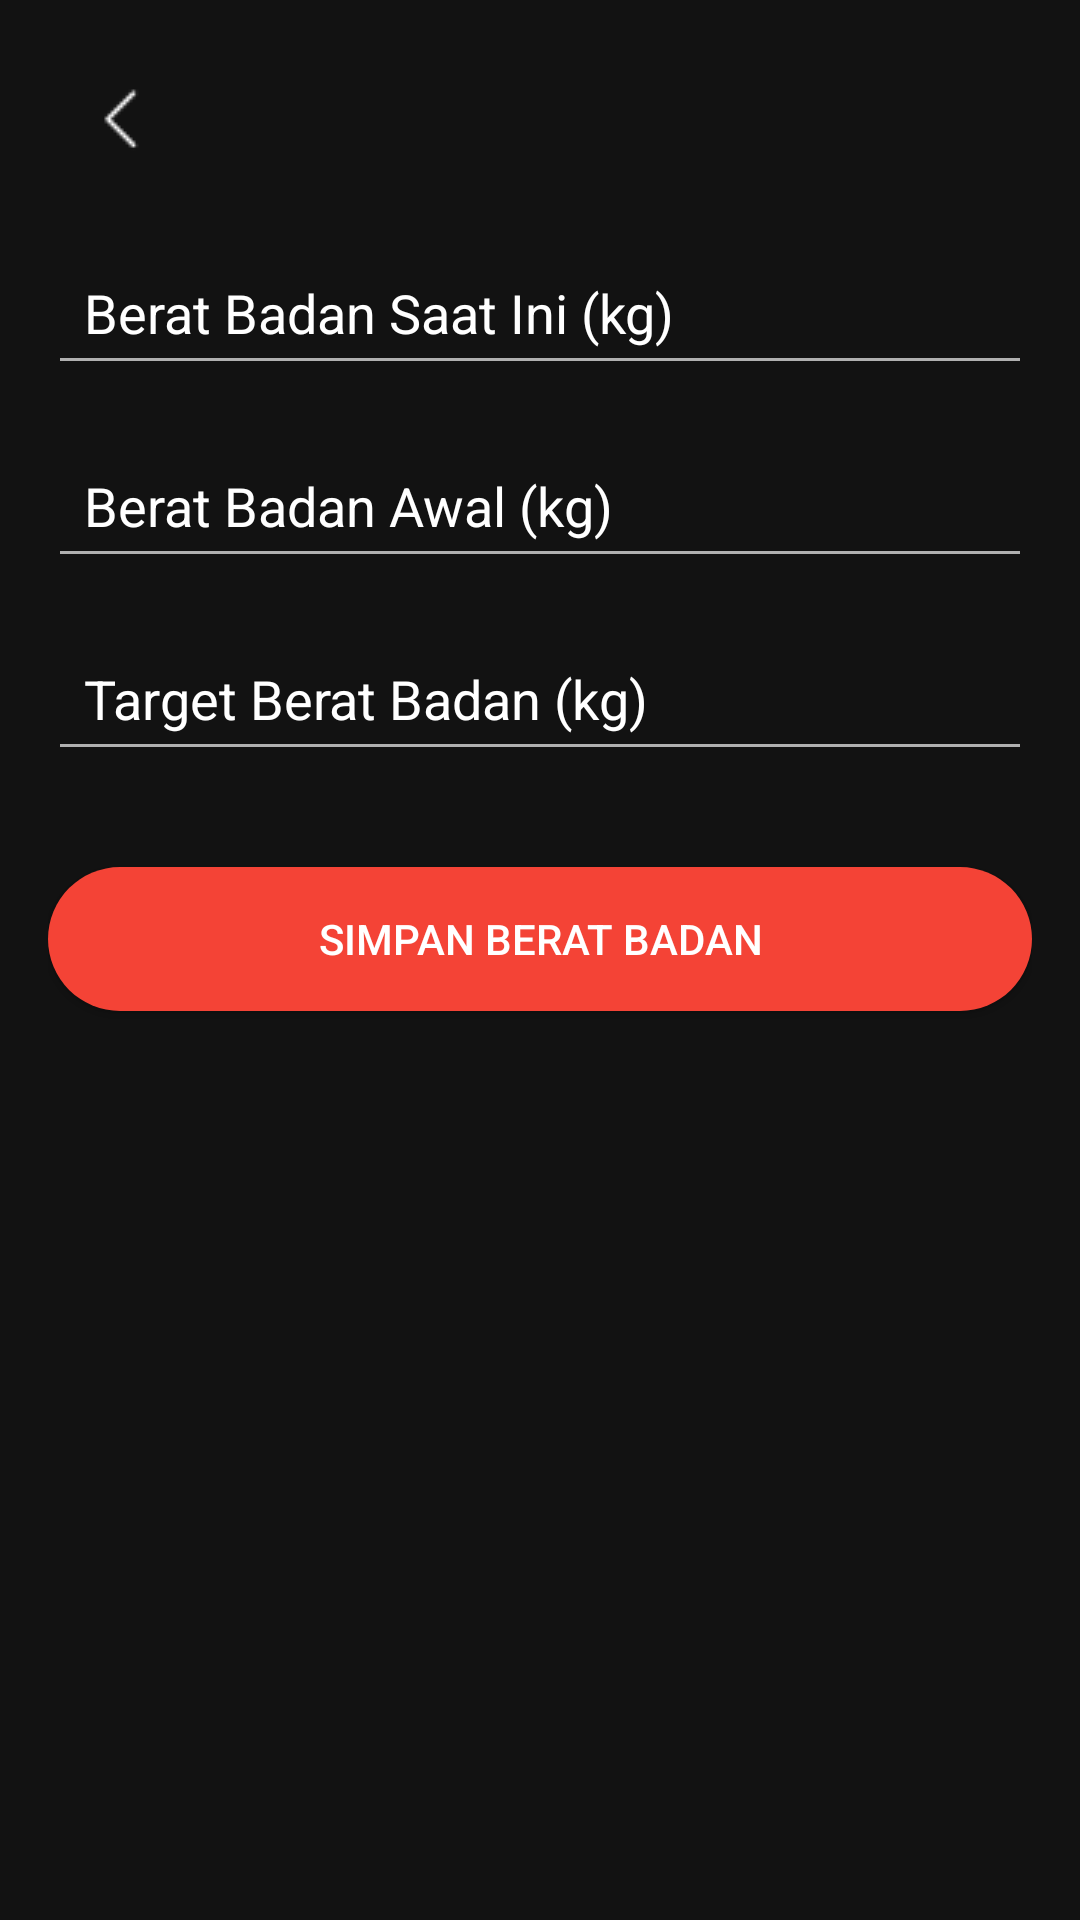

Where to tap for icons on this 1080x1920 app screen, as (x=x, y=y):
Back Button: (x=120, y=118)
